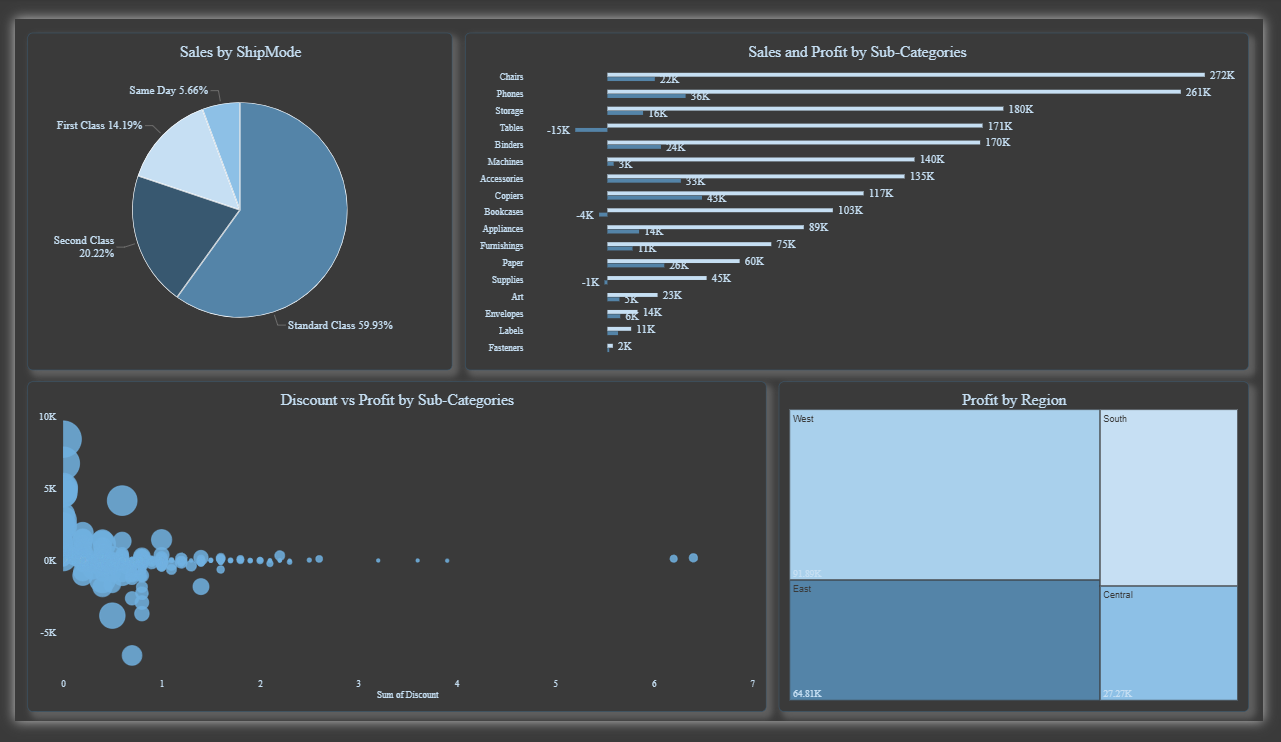

The page's visual inventory and layout, read from the dashboard file:
{"tool":"powerbi","page":{"name":"Visuals","canvas":[1920,1080],"ordinal":1},"visuals":[{"type":"treemap","title":"Profit by Region","fields":{"Group":["Sample_Superstore.Region"],"Values":["Sum(Sample_Superstore.Profit)"]},"box":[1175,557.7,723.1,507.7],"z":0},{"type":"pieChart","title":"Sales by ShipMode","fields":{"Category":["Sample_Superstore.Ship Mode"],"Y":["Sum(Sample_Superstore.Sales)"]},"box":[19.2,21.2,653.8,519.2],"z":1},{"type":"clusteredBarChart","title":"Sales and Profit by Sub-Categories","fields":{"Category":["Sample_Superstore.Sub Category"],"Y":["Sum(Sample_Superstore.Sales)","Sum(Sample_Superstore.Profit)"]},"box":[692.3,21.2,1205.8,519.2],"z":2},{"type":"scatterChart","title":"Discount vs Profit by Sub-Categories","fields":{"Category":["Sample_Superstore.Sales"],"Size":["Sum(Sample_Superstore.Sales)"],"X":["Sum(Sample_Superstore.Discount)"],"Y":["Sum(Sample_Superstore.Profit)"]},"box":[19.2,557.7,1136.5,507.7],"z":3}]}

Visuals, with their boxes in screenshot pixels (x1, y1, x2, y2), scaled from the page's 1920x1080 canvas onto the 1281x742 screenshot:
"Profit by Region" treemap: region(784, 383, 1266, 732)
"Sales by ShipMode" pieChart: region(13, 15, 449, 371)
"Sales and Profit by Sub-Categories" clusteredBarChart: region(462, 15, 1266, 371)
"Discount vs Profit by Sub-Categories" scatterChart: region(13, 383, 771, 732)
